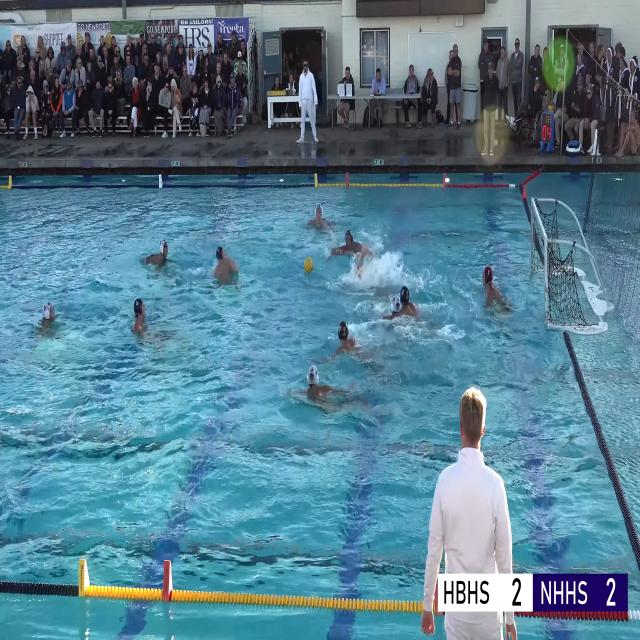ball: (304, 257, 313, 273), (548, 104, 554, 113)
